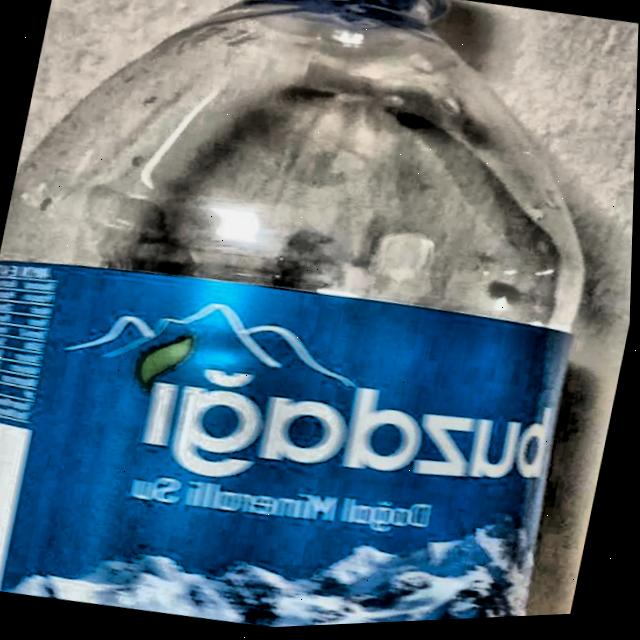plastic: (0, 0, 593, 630)
